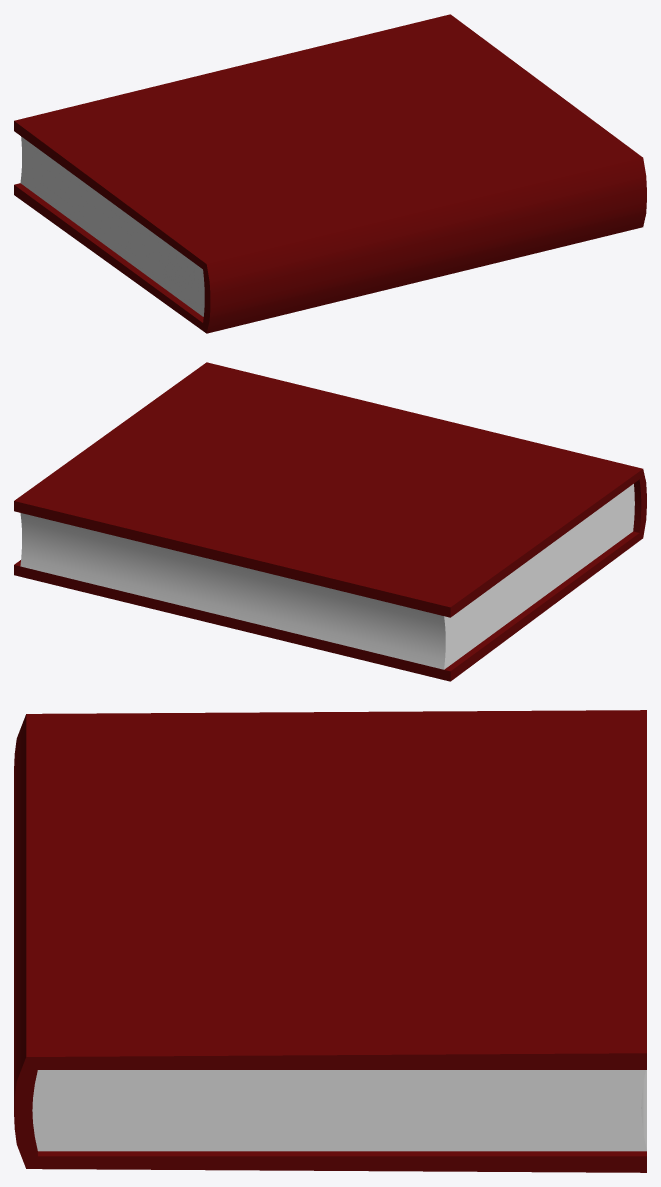
The model's file is book.fbx.
3 renders of one model, top to bottom at view 1: azimuth 30°, elevation 25°; view 2: azimuth 150°, elevation 25°; view 3: azimuth 270°, elevation 25°, orthographic. The views are drawn at different scales.
Parts seen in each view (by area): view 1: Cube.001, Cube; view 2: Cube.001, Cube; view 3: Cube.001, Cube.
Part boxes in pixels (left/top/right/bottom): Cube.001: left=14, top=14, right=646, bottom=333; Cube: left=20, top=136, right=204, bottom=316; Cube.001: left=14, top=362, right=646, bottom=681; Cube: left=20, top=484, right=634, bottom=669; Cube.001: left=14, top=710, right=646, bottom=1172; Cube: left=32, top=1070, right=646, bottom=1151.
Bounding box in the file's own units: 56.67 × 9.21 × 44.18.
